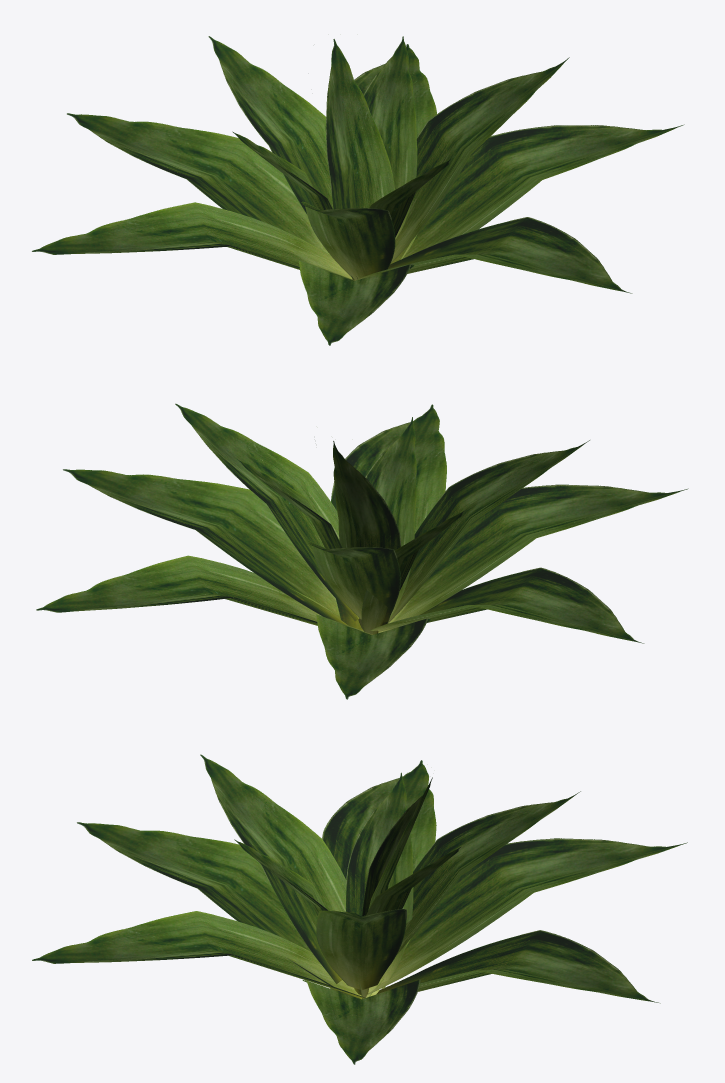
Rendered from plant3.FBX.
The picture shows the model from 3 angles, top to bottom: view 1: azimuth 30°, elevation 25°; view 2: azimuth 150°, elevation 25°; view 3: azimuth 270°, elevation 25°; orthographic projection.
Visible parts, largest first — view 1: plant3; view 2: plant3; view 3: plant3.
Boxes of the visible parts, left/top/right/bottom form: plant3: left=32, top=36, right=684, bottom=345; plant3: left=36, top=403, right=688, bottom=699; plant3: left=32, top=754, right=687, bottom=1064.
Size of the model in its own units: 3.79 by 1.3 by 3.59.
